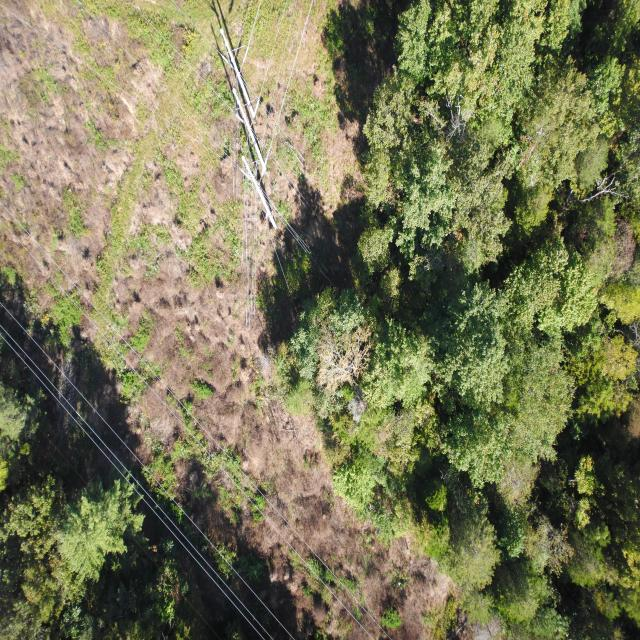Area of Interest: (294, 5, 634, 622), (12, 398, 175, 634)
